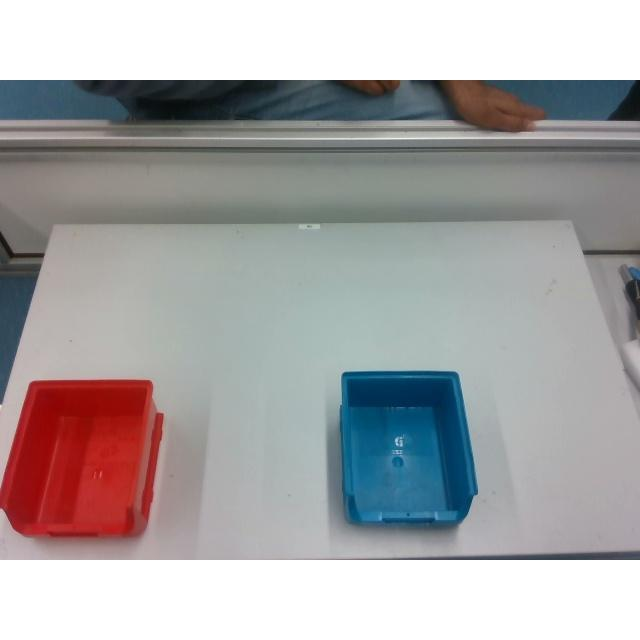container_box_blue: (340, 372, 476, 524)
container_box_red: (0, 379, 162, 535)
